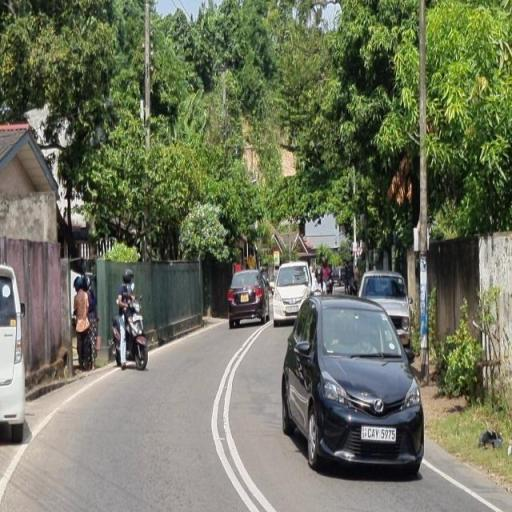double_white_line: (212, 320, 274, 510)
